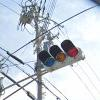traffic lights: (36, 39, 86, 73)
